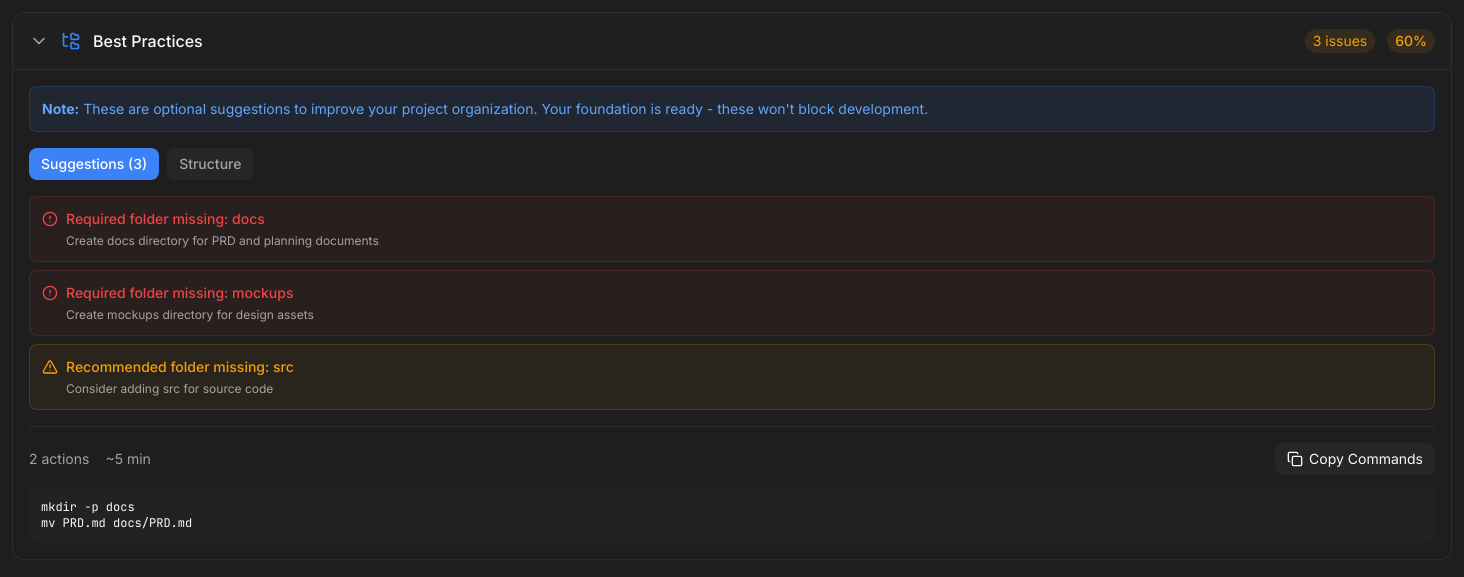
Test: BestPracticesSection › Recommended Structure › should show recommended folder structure
// Click to show structure
Click the tab "Structure" at (210, 164), box [167,148,253,180]
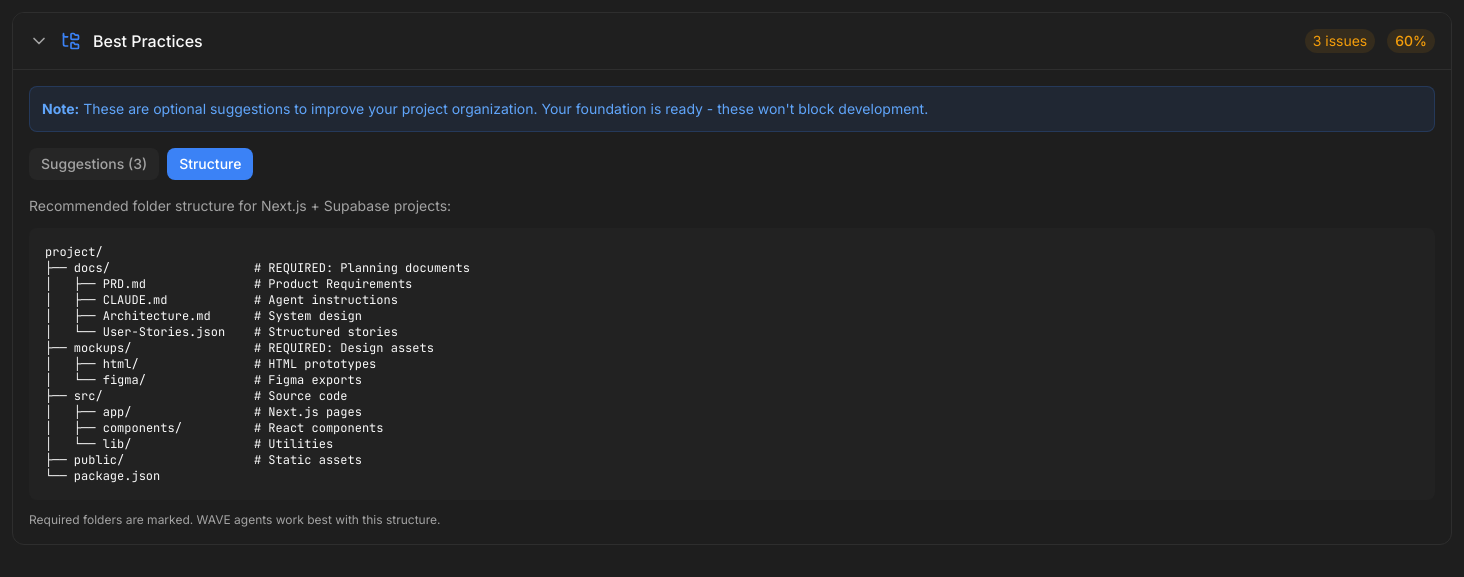
Expected: the text "mockups/" is shown, [45,244,470,484]
